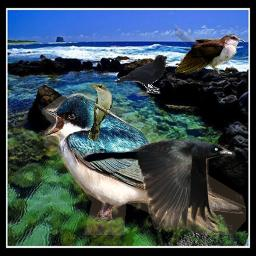Crow: (82, 137, 236, 230), (114, 55, 167, 94)
Cuckoo: (175, 7, 246, 76), (88, 84, 113, 141)
Swallow: (42, 92, 246, 235)
